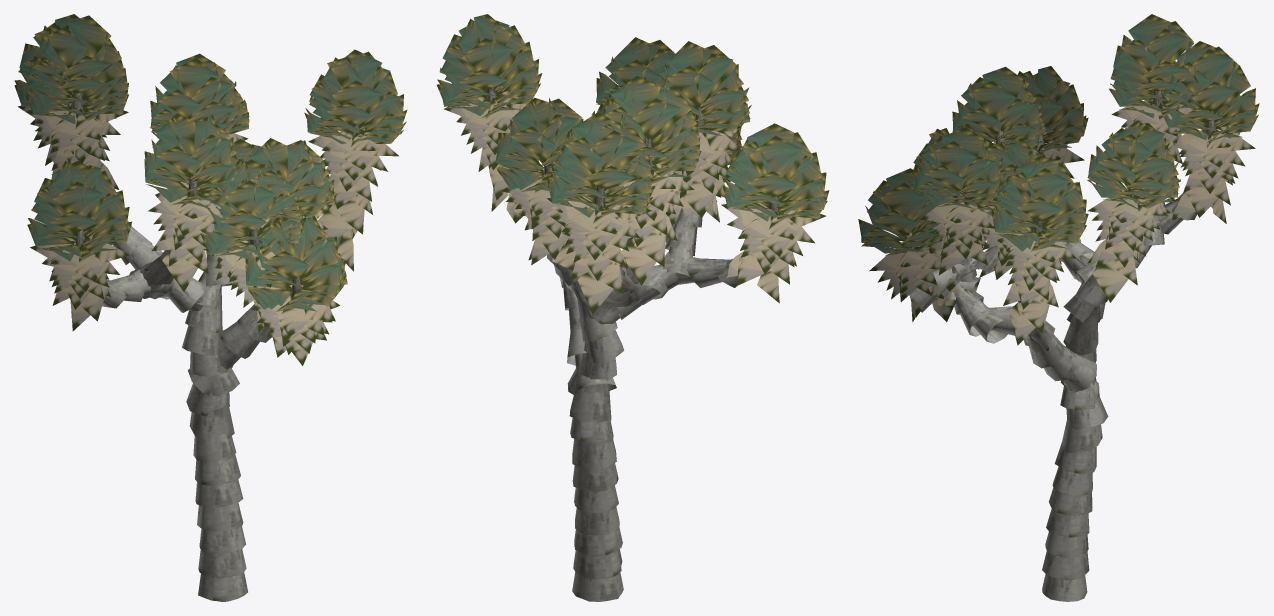
3 views of the same model, side by side, from view 1: azimuth 30°, elevation 25°; view 2: azimuth 150°, elevation 25°; view 3: azimuth 270°, elevation 25° (orthographic). The views are drawn at different scales.
Visible parts, largest first — view 1: jt4; view 2: jt4; view 3: jt4.
Boxes of the visible parts, box(x1,y1,x2,y2) form: jt4: box(14, 14, 407, 601); jt4: box(437, 14, 829, 601); jt4: box(858, 14, 1259, 601).
Size of the model in its own units: 2.14 by 3.15 by 2.17.
